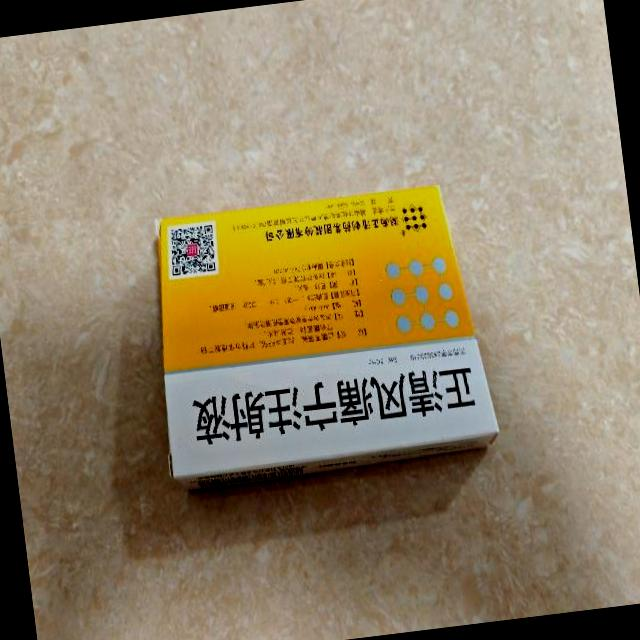box: (141, 180, 504, 492)
